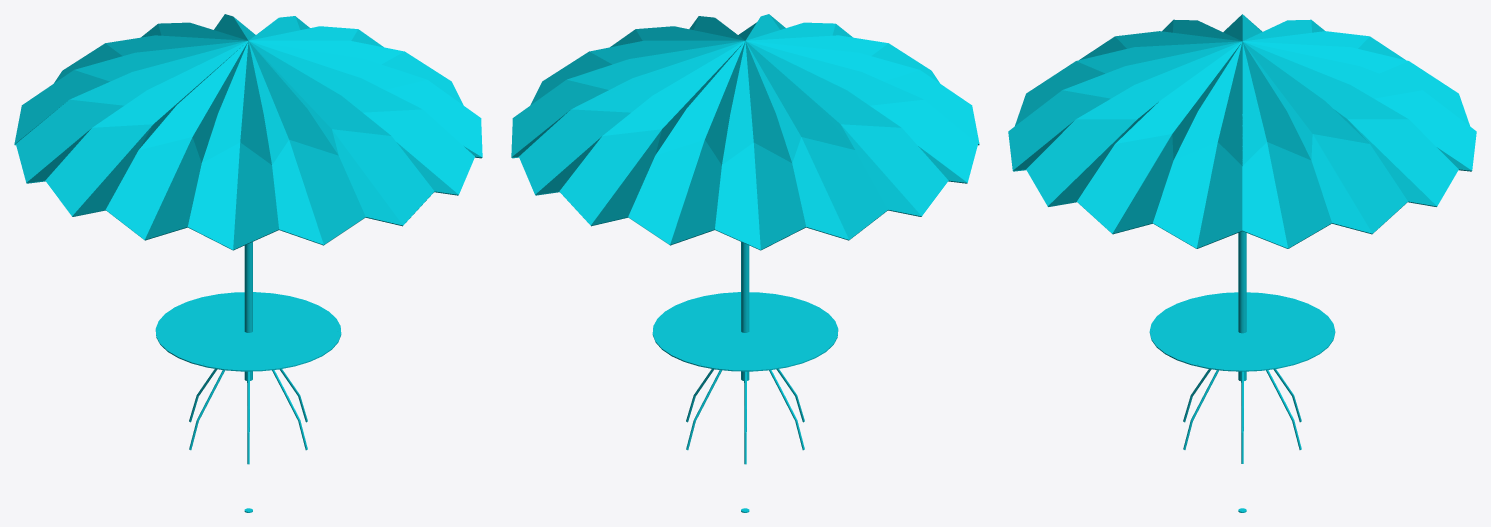
File: Umbrella Fixed Merge.fbx
The picture shows the model from 3 angles, left to right: view 1: azimuth 30°, elevation 25°; view 2: azimuth 150°, elevation 25°; view 3: azimuth 270°, elevation 25°; orthographic projection.
Visible parts, largest first — view 1: Cylinder; view 2: Cylinder; view 3: Cylinder.
Boxes of the visible parts, x1,y1,x2,y2 form: Cylinder: (14,14,482,512); Cylinder: (511,14,979,512); Cylinder: (1008,14,1476,512).
Size of the model in its own units: 378 by 419 by 378.
